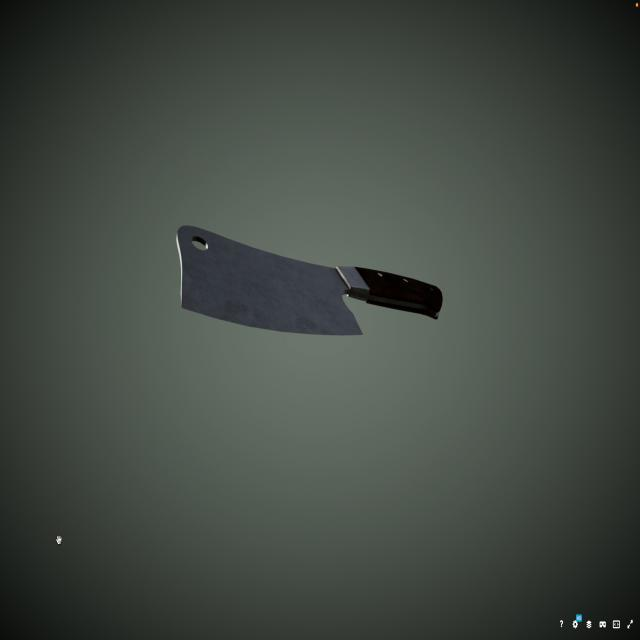cleaver: (174, 222, 443, 340)
